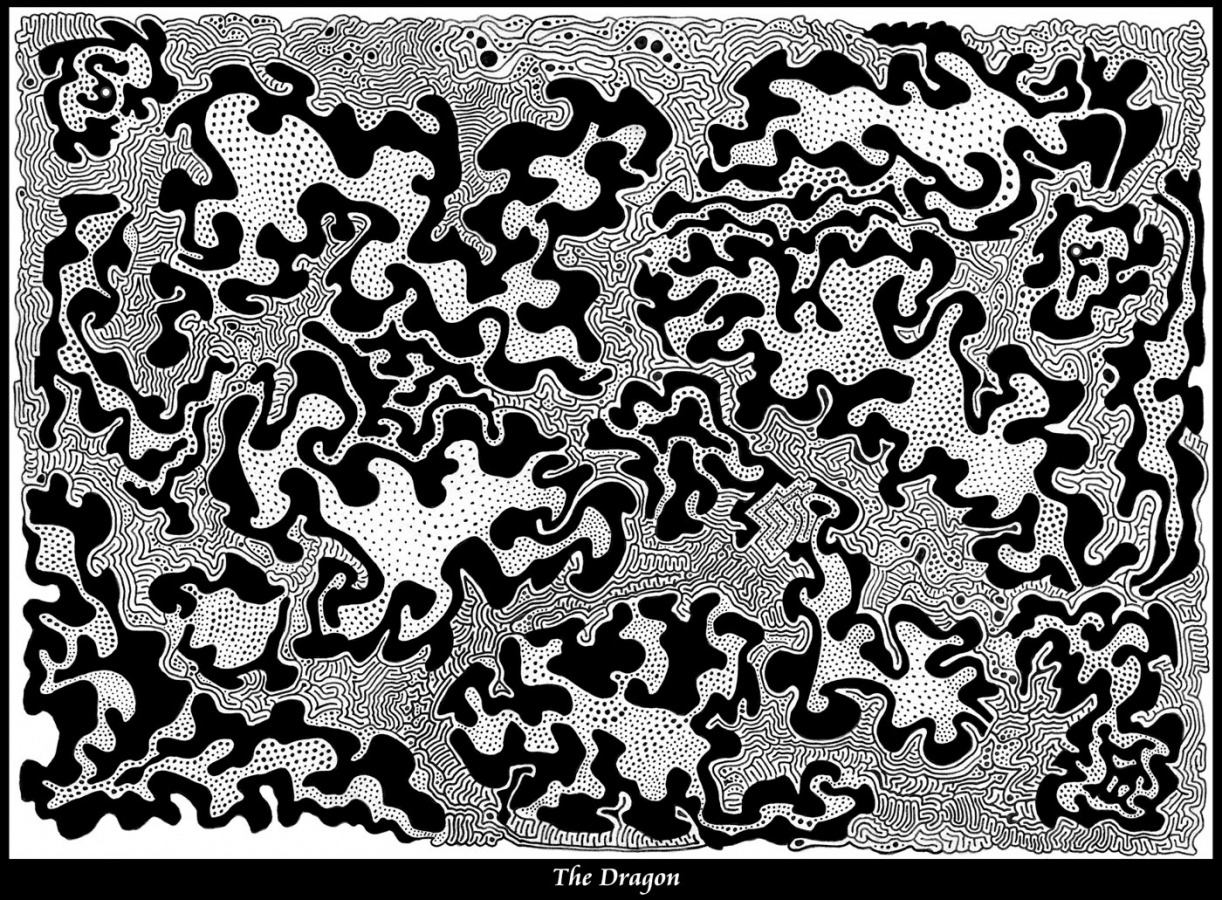maze: (14, 9, 1216, 856)
